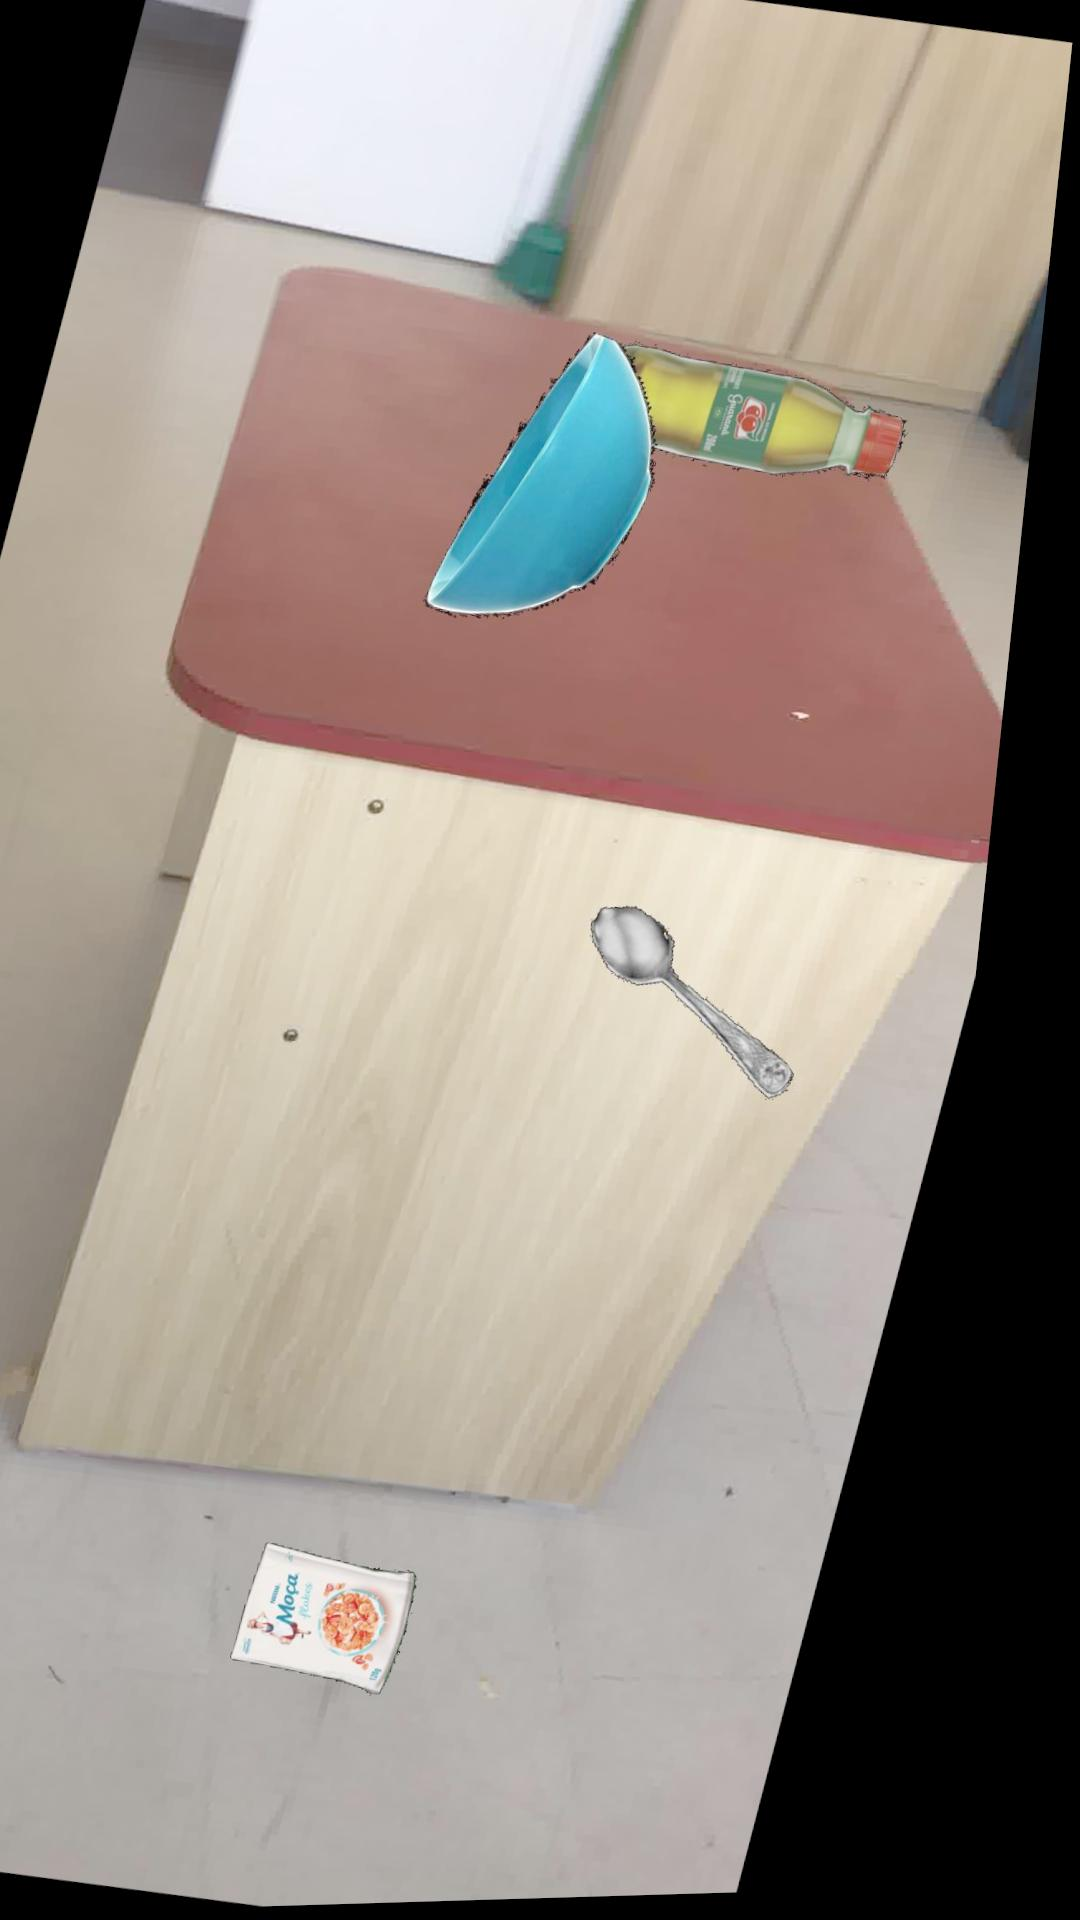bowl: (438, 334, 667, 620)
corn flakes: (268, 1543, 452, 1696)
guarana: (633, 345, 918, 483)
spoon: (612, 907, 819, 1102)
